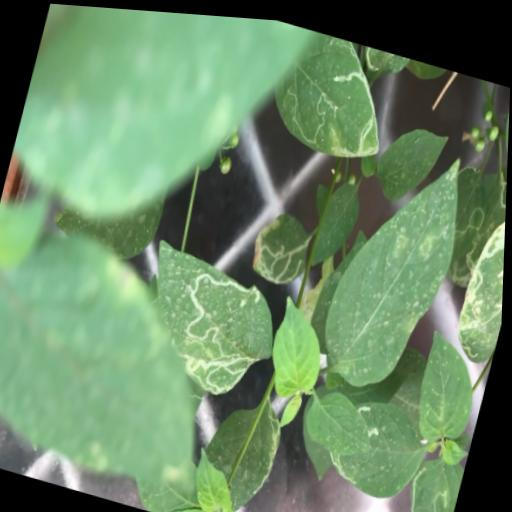Healthy: (261, 289, 337, 404)
Leaf_Miner: (128, 235, 293, 405), (261, 17, 402, 164), (323, 384, 437, 503), (196, 377, 292, 512), (450, 186, 507, 359), (445, 156, 508, 290), (432, 153, 496, 279), (247, 197, 318, 287), (400, 441, 469, 512), (356, 38, 409, 78)
